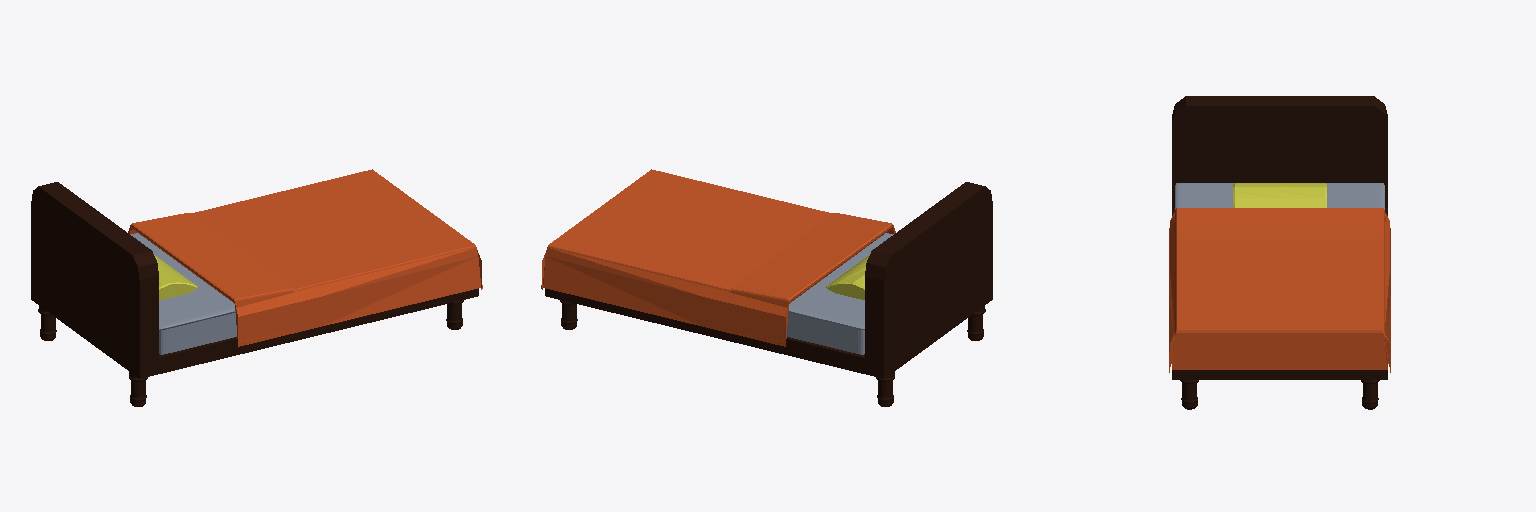
The model's file is Bed.obj.
3 renders of one model, left to right at view 1: azimuth 30°, elevation 25°; view 2: azimuth 150°, elevation 25°; view 3: azimuth 270°, elevation 25°, orthographic.
Parts seen in each view (by area): view 1: Plane, Cube.001, Cube; view 2: Plane, Cube.001, Cube; view 3: Plane, Cube.001, Cube.
Part boxes in pixels (x1,y1,x2,y2): Plane: (128, 169, 482, 346); Cube.001: (31, 182, 478, 406); Cube: (130, 233, 236, 354); Plane: (541, 169, 895, 346); Cube.001: (545, 182, 992, 406); Cube: (787, 233, 893, 354); Plane: (1169, 208, 1390, 372); Cube.001: (1172, 96, 1387, 409); Cube: (1175, 183, 1384, 209).
Bounding box in the file's own units: 8.77 × 3.75 × 4.92.